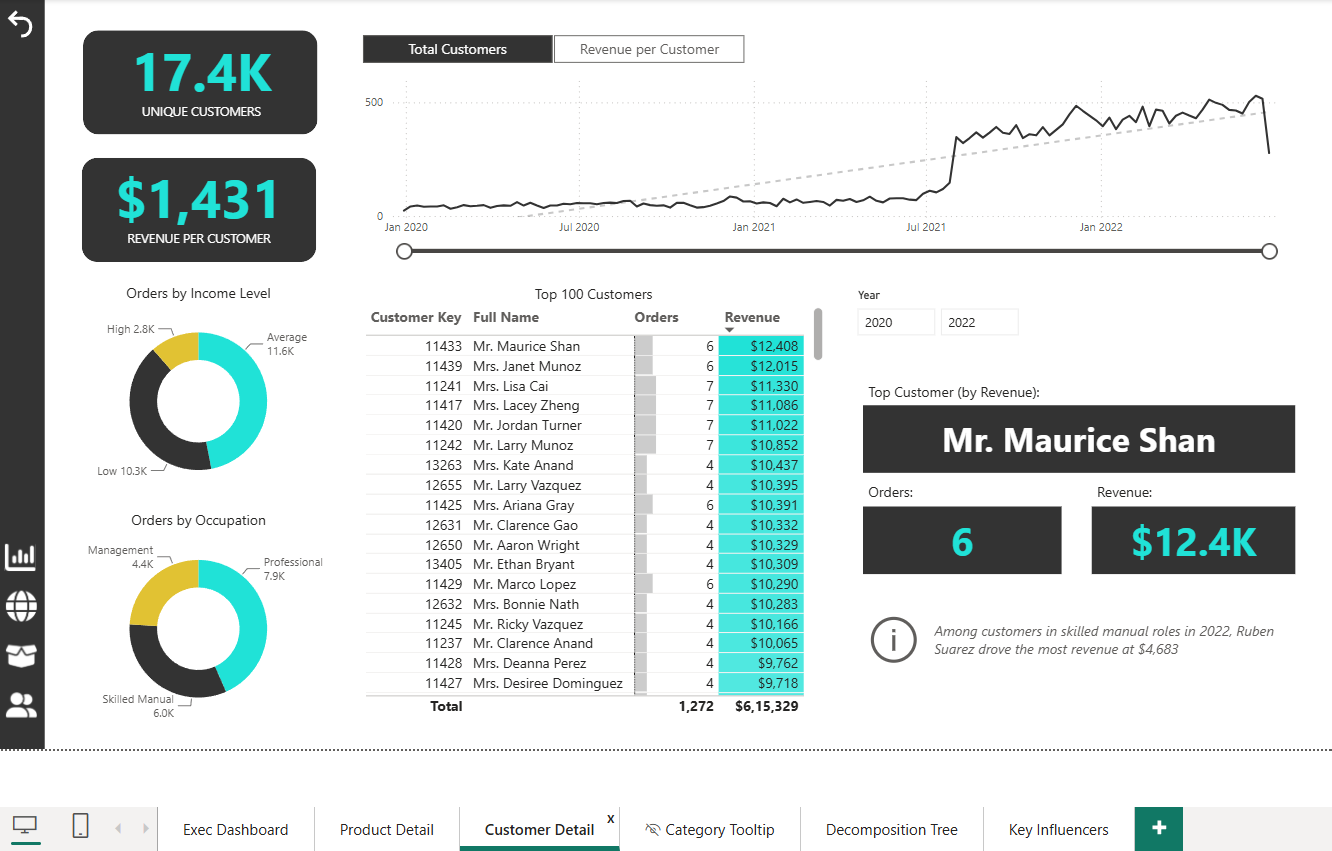

This screenshot's page, from the dashboard's own definition file:
{"tool":"powerbi","page":{"name":"Customer Detail","canvas":[1280,720],"ordinal":2},"visuals":[{"type":"shape","box":[0,0,45,720],"z":0},{"type":"actionButton","box":[2.5,516.7,45.6,37.8],"z":0,"group":"g1"},{"type":"shape","box":[81.7,30,225,100],"z":1000},{"type":"actionButton","box":[3.3,563.4,45.6,37.8],"z":1000,"group":"g1"},{"type":"shape","box":[80,152.7,225,100],"z":2000},{"type":"actionButton","box":[3.3,611.1,45.6,37.8],"z":2000,"group":"g1"},{"type":"card","fields":{"Values":["Measure Table.Total Customers"]},"box":[66.7,0,256.2,150],"z":3000},{"type":"actionButton","box":[3.3,657.8,45.6,37.8],"z":3000,"group":"g1"},{"type":"card","fields":{"Values":["Measure Table.Average Revenue per Customer"]},"box":[65,122.7,256.2,150],"z":4000},{"type":"lineChart","fields":{"Category":["Calendar Lookup.Date Hierarchy.Year","Calendar Lookup.Date Hierarchy.Start of Month","Calendar Lookup.Date Hierarchy.Start of Week","Calendar Lookup.Date Hierarchy.Date"],"Y":["Measure Table.Total Customers"]},"box":[345.9,63.3,898.6,188.8],"z":5000},{"type":"donutChart","title":"Orders by Income Level","fields":{"Category":["Customer Lookup.Income Level"],"Y":["Measure Table.Total Orders"]},"box":[63.8,272.5,257.5,210],"z":6000},{"type":"donutChart","title":"Orders by Occupation","fields":{"Category":["Customer Lookup.Occupation"],"Y":["Measure Table.Total Orders"]},"box":[63.8,490,257.5,210],"z":7000},{"type":"tableEx","title":"Top 100 Customers","fields":{"Values":["Customer Lookup.CustomerKey","Customer Lookup.Full Name","Measure Table.Total Orders","Measure Table.Total Revenue"]},"box":[346,273.6,449.4,418.4],"z":8000},{"type":"card","fields":{"Values":["Min(Customer Lookup.Full Name)"]},"box":[829.6,390.1,414.5,65.1],"z":9000},{"type":"card","fields":{"Values":["Measure Table.Total Orders"]},"box":[829.6,487,190.7,65.1],"z":10000},{"type":"card","fields":{"Values":["Measure Table.Total Revenue"]},"box":[1048.7,487,195.4,65.1],"z":11000},{"type":"textbox","box":[829.6,361.7,190.7,37.9],"z":12000},{"type":"textbox","box":[829.6,458.4,190.7,37.9],"z":13000},{"type":"textbox","box":[1048.7,458.4,190.7,37.9],"z":14000},{"type":"slicer","fields":{"Values":["Calendar Lookup.Year"]},"box":[811.6,272.4,432.9,80.3],"z":15000},{"type":"actionButton","box":[830,586.7,410,56.7],"z":16000},{"type":"actionButton","box":[3.3,5.6,35.6,35.6],"z":17000},{"type":"group","id":"g1","title":"Navigation Buttons","box":[2.5,516.7,46.4,178.9],"z":18000},{"type":"slicer","fields":{"Values":["Customer Metric Selection.Customer Metric Selection"]},"box":[323.3,27.1,415.9,36.2],"z":19000}]}

Visuals, with their boxes on the page's 1280x720 design canvas (x1, y1, x2, y2). These are canvas units, not pixel positions in the 1332x851 screenshot, which may show the page scaled, cropped or inside an application window:
shape: 0, 0, 45, 720
actionButton: 2, 517, 48, 554
shape: 82, 30, 307, 130
actionButton: 3, 563, 49, 601
shape: 80, 153, 305, 253
actionButton: 3, 611, 49, 649
card - Measure Table.Total Customers: 67, 0, 323, 150
actionButton: 3, 658, 49, 696
card - Measure Table.Average Revenue per Customer: 65, 123, 321, 273
lineChart - Calendar Lookup.Date Hierarchy.Year x Calendar Lookup.Date Hierarchy.Start of Month: 346, 63, 1244, 252
"Orders by Income Level" donutChart: 64, 272, 321, 482
"Orders by Occupation" donutChart: 64, 490, 321, 700
"Top 100 Customers" tableEx: 346, 274, 795, 692
card - Min(Customer Lookup.Full Name): 830, 390, 1244, 455
card - Measure Table.Total Orders: 830, 487, 1020, 552
card - Measure Table.Total Revenue: 1049, 487, 1244, 552
textbox: 830, 362, 1020, 400
textbox: 830, 458, 1020, 496
textbox: 1049, 458, 1239, 496
slicer - Calendar Lookup.Year: 812, 272, 1244, 353
actionButton: 830, 587, 1240, 643
actionButton: 3, 6, 39, 41
"Navigation Buttons" group: 2, 517, 49, 696
slicer - Customer Metric Selection.Customer Metric Selection: 323, 27, 739, 63
